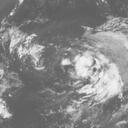cyclone: (61, 45, 124, 104)
